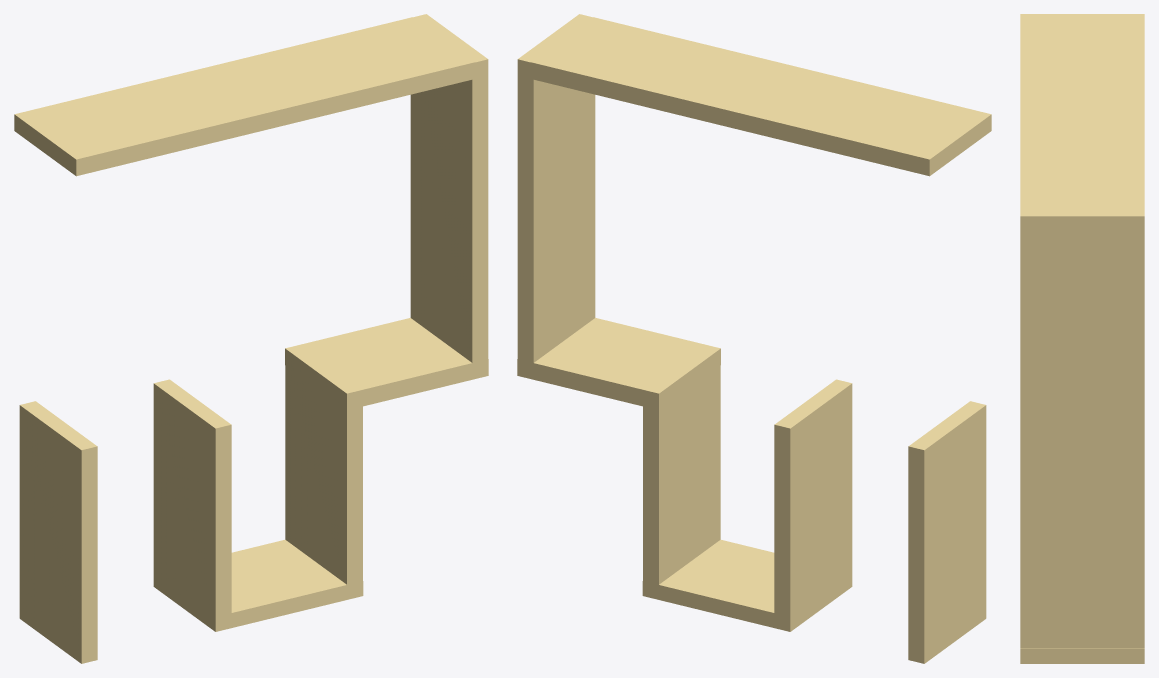
3 renders of one model, left to right at view 1: azimuth 30°, elevation 25°; view 2: azimuth 150°, elevation 25°; view 3: azimuth 270°, elevation 25°, orthographic.
Visible parts, largest first — view 1: Wall_8__6_, Wall__7_, Wall__5_, Wall__9_, Wall__8_, Wall_8__7_, Wall_8__3_; view 2: Wall_8__6_, Wall__7_, Wall__5_, Wall__9_, Wall__8_, Wall_8__7_, Wall_8__3_; view 3: Wall__7_, Wall_8__6_, Wall__8_, Wall_8__7_, Wall_8__3_.
Part boxes in pixels (x1,y1,x2,y2): Wall_8__6_: (14, 17, 474, 176); Wall__7_: (410, 14, 488, 362); Wall__5_: (19, 401, 97, 663); Wall__9_: (153, 379, 231, 630); Wall__8_: (285, 365, 362, 584); Wall_8__7_: (285, 318, 488, 410); Wall_8__3_: (153, 539, 363, 631); Wall_8__6_: (531, 17, 991, 176); Wall__7_: (517, 14, 595, 362); Wall__5_: (908, 401, 986, 663); Wall__9_: (774, 379, 852, 630); Wall__8_: (643, 365, 720, 584); Wall_8__7_: (517, 318, 720, 410); Wall_8__3_: (642, 539, 852, 631); Wall__7_: (1020, 209, 1144, 517); Wall_8__6_: (1020, 14, 1144, 209); Wall__8_: (1020, 535, 1144, 648); Wall_8__7_: (1020, 518, 1144, 534); Wall_8__3_: (1020, 648, 1144, 663).
Size of the model in its own units: 413 by 484 by 107.
